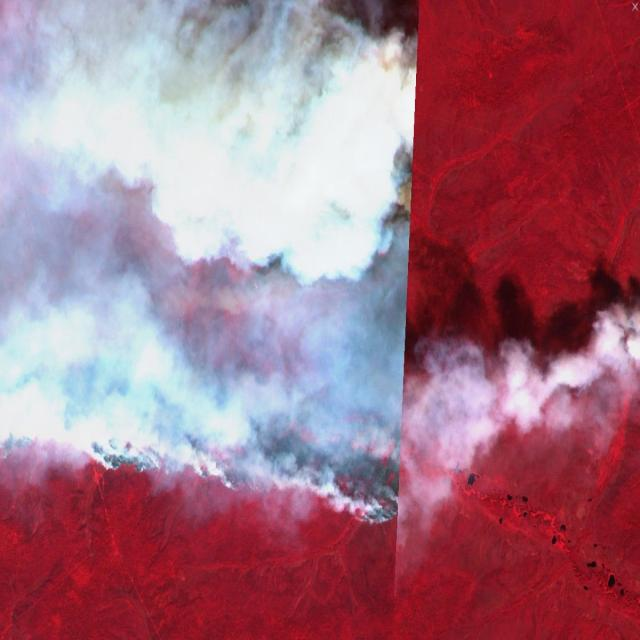fire: (0, 156, 416, 531)
